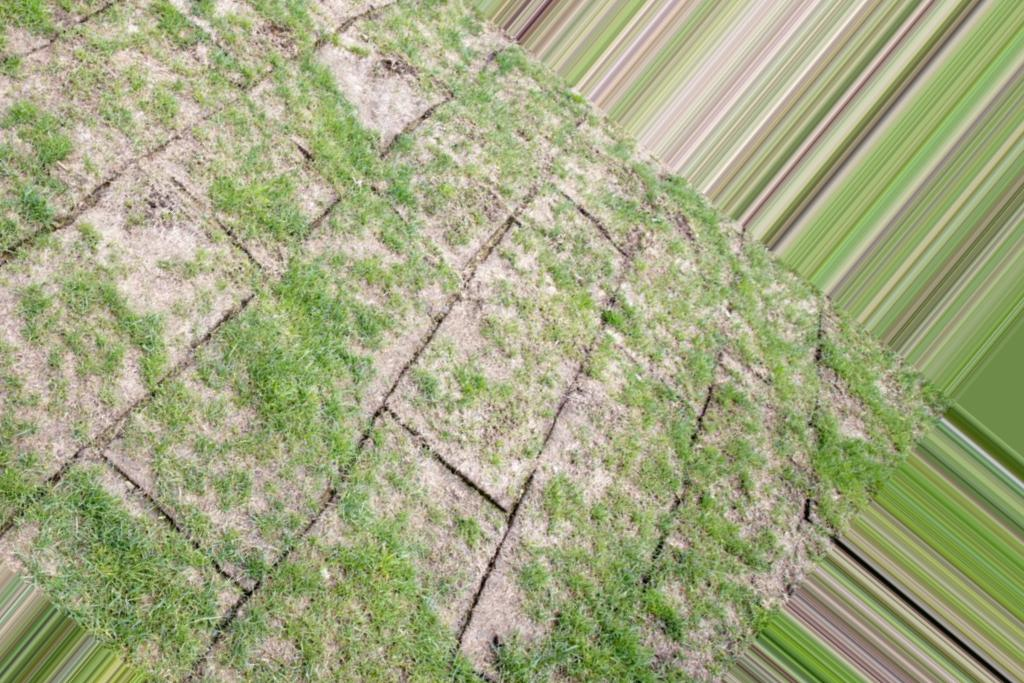patch: (522, 262, 697, 595), (224, 387, 427, 661), (281, 66, 418, 375), (13, 263, 216, 471), (82, 178, 260, 359), (28, 35, 261, 163), (719, 287, 825, 545), (510, 95, 611, 254), (439, 50, 500, 285), (448, 302, 506, 455), (451, 468, 512, 575), (294, 2, 390, 57), (444, 587, 517, 651)
